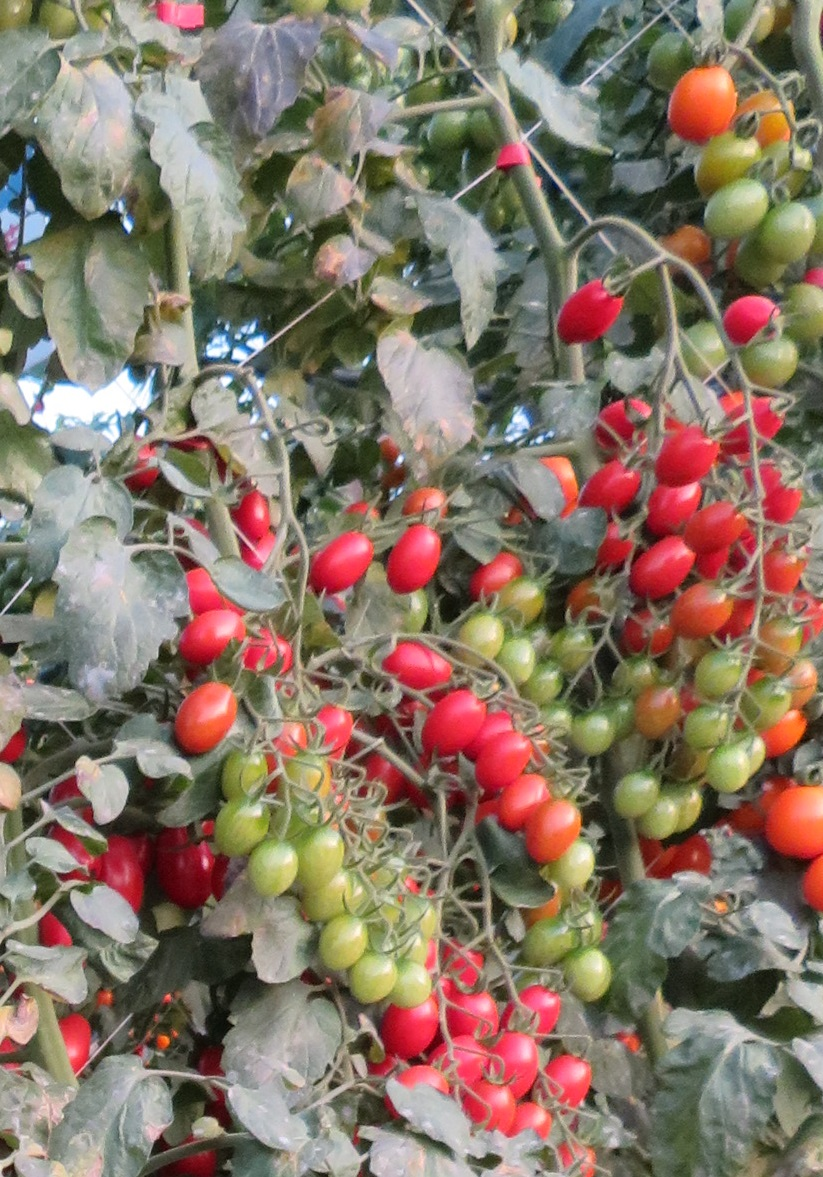green: (699, 183, 775, 240), (757, 198, 823, 261), (214, 790, 271, 860), (311, 906, 367, 976), (244, 838, 303, 898), (299, 821, 349, 883), (698, 135, 768, 179), (565, 945, 615, 1005), (355, 950, 404, 1009), (614, 770, 670, 818), (740, 334, 795, 382), (495, 583, 546, 633), (457, 610, 500, 668), (525, 918, 582, 960), (681, 705, 736, 748), (698, 649, 746, 694), (556, 849, 598, 900), (525, 665, 566, 716), (709, 742, 754, 787), (573, 709, 616, 756), (504, 633, 536, 694), (678, 783, 712, 840), (649, 789, 679, 839), (401, 959, 427, 1003)
orange: (667, 66, 731, 142), (172, 683, 238, 754), (756, 793, 823, 857), (522, 803, 582, 870), (501, 776, 556, 840), (770, 710, 817, 748)
red: (554, 284, 620, 351), (307, 533, 378, 595), (383, 523, 440, 596), (418, 688, 482, 750), (172, 614, 244, 666), (627, 544, 692, 601), (372, 639, 453, 684), (579, 462, 648, 509), (467, 735, 532, 784), (381, 1006, 439, 1060), (677, 512, 744, 551), (654, 445, 712, 484), (725, 299, 782, 337), (237, 489, 271, 541)
